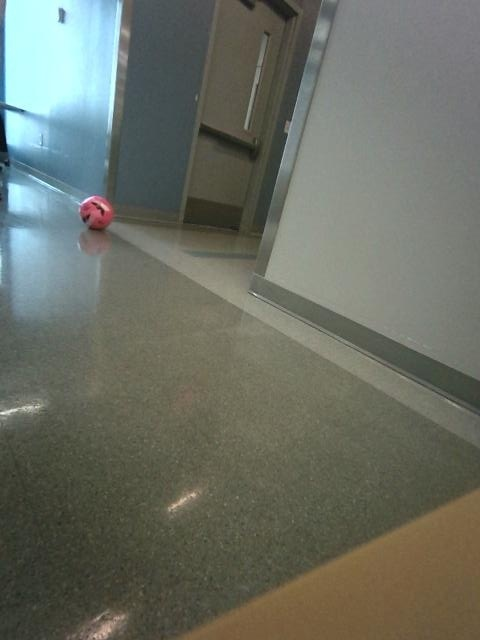ball: (79, 195, 112, 229)
